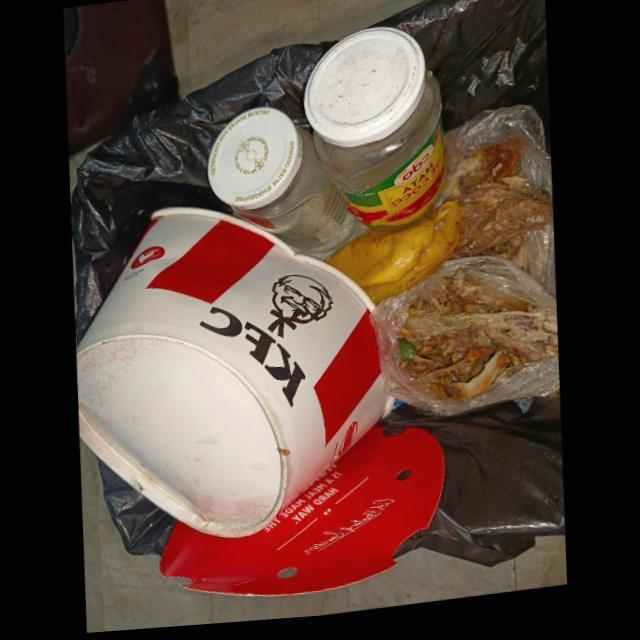cardboard: (77, 208, 390, 544), (161, 433, 448, 602)
glass_bottle: (302, 32, 446, 237), (207, 110, 360, 264)
left_over_food: (391, 276, 560, 409), (442, 148, 554, 269)
plastic_bag: (370, 263, 562, 425), (434, 113, 557, 308)
